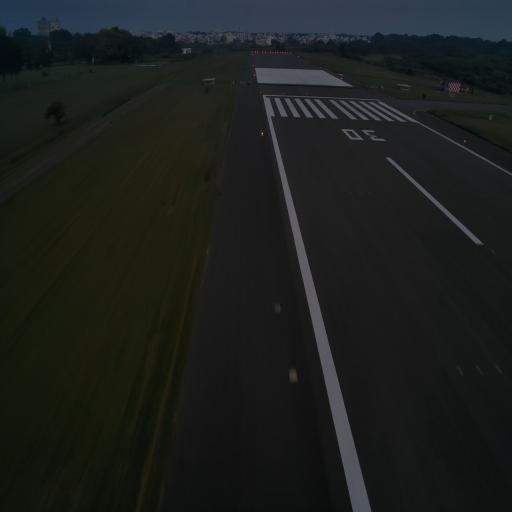off: (474, 361, 484, 381), (493, 359, 504, 377), (456, 361, 464, 381), (490, 248, 496, 258), (348, 189, 352, 197), (358, 190, 362, 197), (368, 190, 372, 196)
on: (288, 365, 299, 386), (260, 129, 264, 139), (462, 138, 466, 146)
